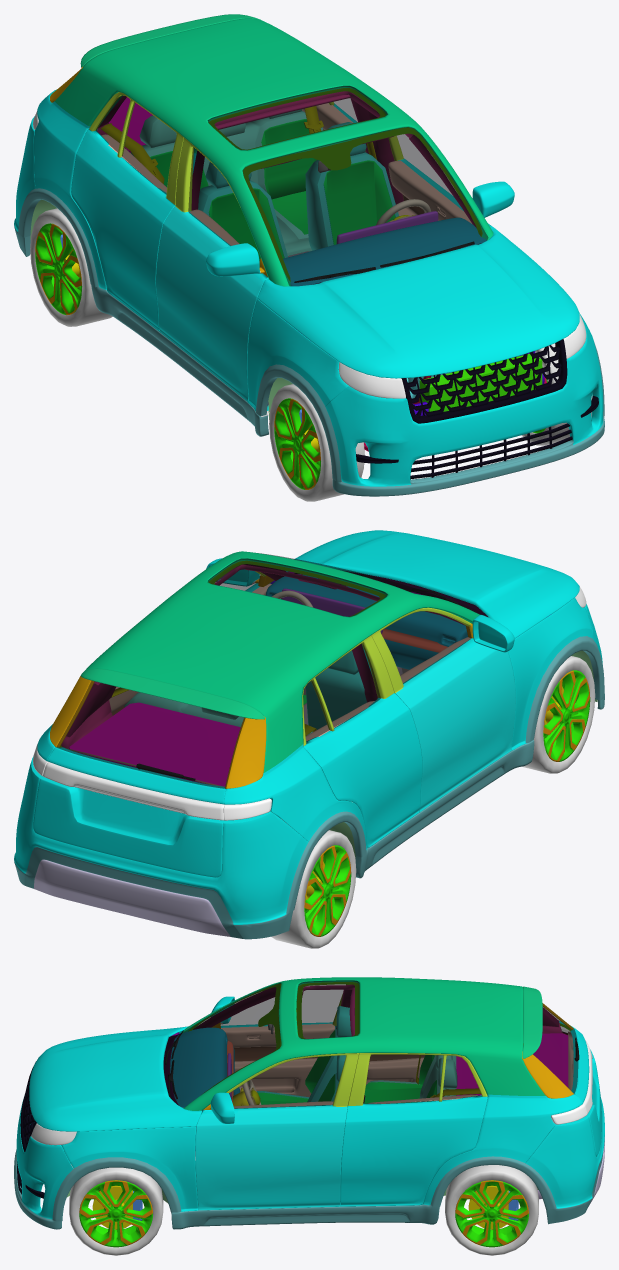
Rendered from suv.glb.
3 renders of one model, top to bottom at view 1: azimuth 30°, elevation 25°; view 2: azimuth 150°, elevation 25°; view 3: azimuth 270°, elevation 25°, orthographic. The views are drawn at different scales.
Parts seen in each view (by area): view 1: chassis-sunroof, hood, glass-windshield, bumper-front, door-front-right, door-rear-right, seat-rear, dashboard, glass-sunroof, seat-front-left, fender-front-right, roof-lining-sunroof (+24 smaller); view 2: chassis-sunroof, bumper-rear, trunk, door-front-right, hood, glass-rear, door-rear-right, trunk-lid-cover, glass-sunroof, dashboard, fender-front-right, glass-door-front-right (+20 smaller); view 3: chassis-sunroof, door-front-left, door-rear-left, hood, glass-windshield, fender-front-left, bumper-rear, glass-door-front-left, dashboard, door-panel-front-right, glass-door-rear-left, glass-sunroof (+26 smaller).
Part boxes in pixels (x1,y1,x2,y2): chassis-sunroof: (34, 18, 493, 436); hood: (257, 225, 579, 378); glass-windshield: (242, 127, 488, 286); bumper-front: (325, 329, 604, 496); door-front-right: (155, 137, 268, 401); door-rear-right: (71, 92, 183, 331); seat-rear: (131, 109, 323, 255); dashboard: (283, 211, 486, 286); glass-sunroof: (207, 85, 387, 150); seat-front-left: (305, 122, 398, 250); fender-front-right: (247, 298, 348, 410); roof-lining-sunroof: (97, 91, 476, 227); chassis-sunroof: (37, 551, 534, 878); bumper-rear: (14, 756, 308, 939); trunk: (33, 747, 225, 877); door-front-right: (371, 607, 515, 811); hood: (286, 530, 579, 638); glass-rear: (56, 681, 245, 788); door-rear-right: (302, 635, 422, 847); trunk-lid-cover: (69, 702, 240, 786); glass-sunroof: (208, 558, 387, 616); dashboard: (266, 574, 467, 669); fender-front-right: (508, 597, 592, 750); glass-door-front-right: (380, 611, 471, 683); chassis-sunroof: (171, 977, 582, 1229); door-front-left: (195, 1053, 358, 1210); door-rear-left: (340, 1053, 487, 1206); hood: (29, 1026, 201, 1131); glass-windshield: (170, 983, 280, 1107); fender-front-left: (61, 1126, 198, 1211); bumper-rear: (525, 1098, 604, 1224); glass-door-front-left: (229, 1055, 345, 1108); dashboard: (170, 1027, 239, 1150); door-panel-front-right: (221, 1023, 335, 1096); glass-door-rear-left: (363, 1054, 443, 1104); glass-sunroof: (296, 980, 359, 1039).
Size of the model in its own units: 195 by 156 by 419.
